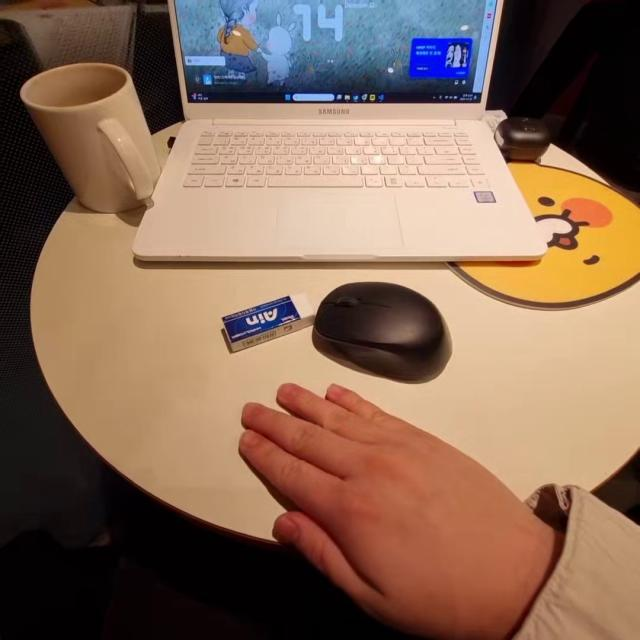eraser: (206, 292, 314, 355)
hand: (240, 381, 534, 609)
mouse: (318, 273, 472, 382)
